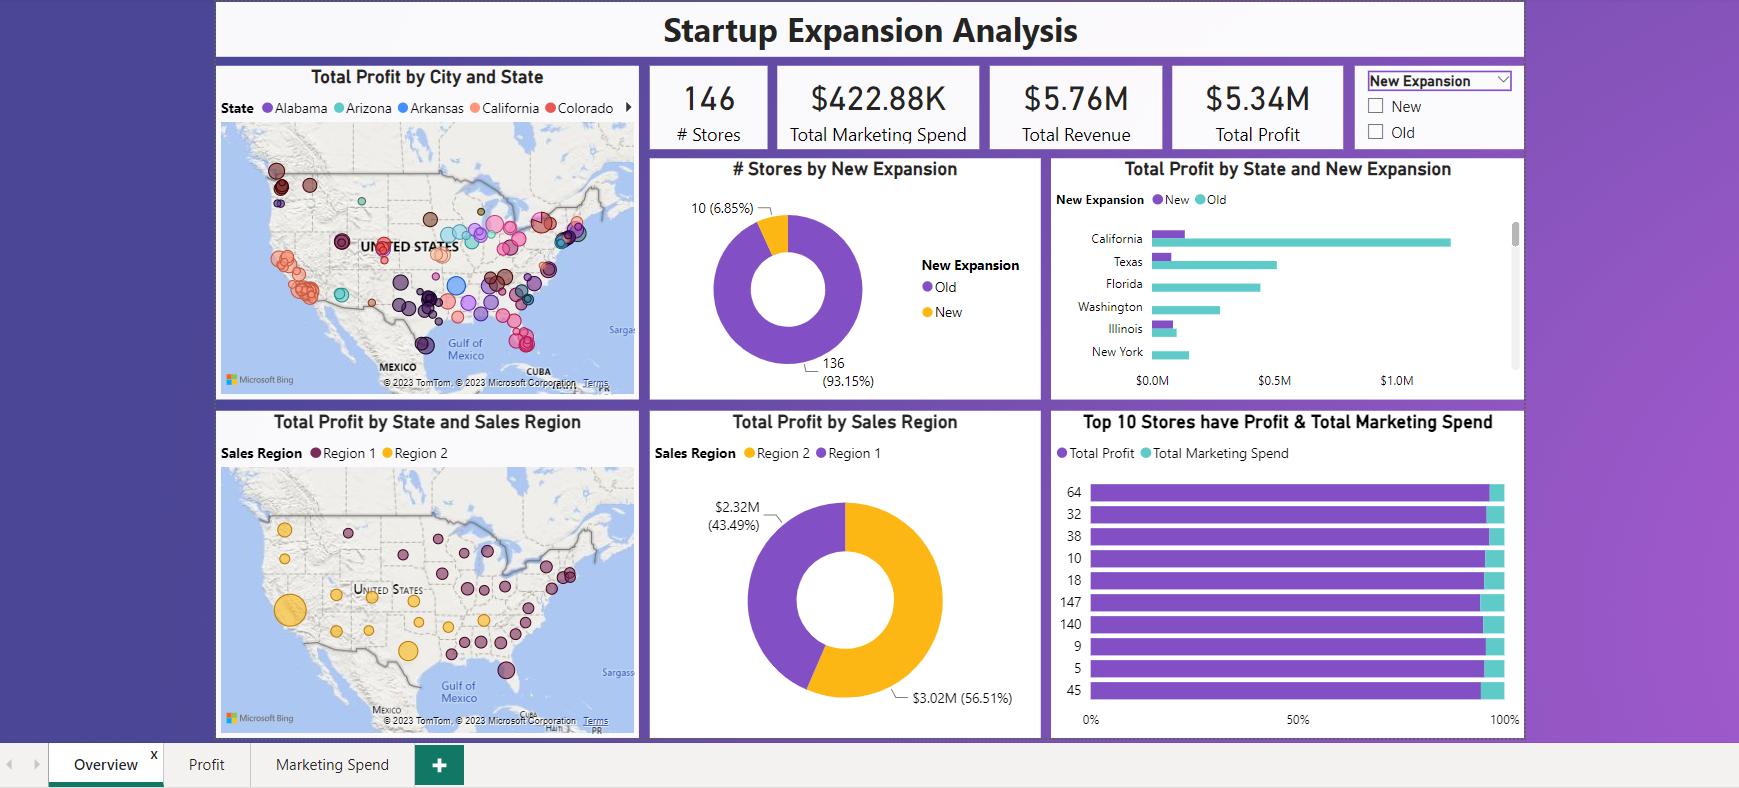

This screenshot's page, from the dashboard's own definition file:
{"tool":"powerbi","page":{"name":"Overview","canvas":[1280,720],"ordinal":0},"visuals":[{"type":"map","title":"Total Profit by City and State","fields":{"Category":["startup-expansion-modified.city"],"Series":["startup-expansion-modified.state"],"Size":["startup-expansion-modified.Total Profit"]},"box":[0,62.5,413.8,326.2],"z":0},{"type":"map","title":"Total Profit by State and Sales Region","fields":{"Category":["startup-expansion-modified.state"],"Series":["startup-expansion-modified.sales_region"],"Size":["startup-expansion-modified.Total Profit"]},"box":[0,400,413.8,320],"z":1000},{"type":"textbox","box":[0,0,1280,53.8],"z":2000},{"type":"card","fields":{"Values":["startup-expansion-modified.# Stores"]},"box":[423.8,62.5,115,81.2],"z":3000},{"type":"card","fields":{"Values":["startup-expansion-modified.Total Revenue"]},"box":[756.2,62.5,168.8,81.2],"z":4000},{"type":"card","fields":{"Values":["startup-expansion-modified.Total Profit"]},"box":[935,62.5,167.5,81.2],"z":5000},{"type":"card","fields":{"Values":["startup-expansion-modified.Total Marketing Spend"]},"box":[548.8,62.5,197.5,81.2],"z":6000},{"type":"donutChart","title":"Total Profit by Sales Region","fields":{"Y":["startup-expansion-modified.Total Profit"],"Category":["startup-expansion-modified.sales_region"]},"box":[423.8,400,382.5,320],"z":7000},{"type":"donutChart","title":"# Stores by New Expansion","fields":{"Category":["startup-expansion-modified.new_expansion"],"Y":["startup-expansion-modified.# Stores"]},"box":[423.8,152.5,382.5,236.2],"z":8000},{"type":"slicer","fields":{"Values":["startup-expansion-modified.new_expansion"]},"box":[1113.8,62.5,166.2,81.2],"z":9000},{"type":"hundredPercentStackedBarChart","title":"Top 10 Stores have Profit & Total Marketing Spend","fields":{"Category":["startup-expansion-modified.store_id"],"Y":["startup-expansion-modified.Total Profit","startup-expansion-modified.Total Marketing Spend"]},"box":[816.2,400,463.8,320],"z":10000},{"type":"clusteredBarChart","title":"Total Profit by State and New Expansion","fields":{"Category":["startup-expansion-modified.state"],"Y":["startup-expansion-modified.Total Profit"],"Series":["startup-expansion-modified.new_expansion"]},"box":[816.2,152.5,463.8,236.2],"z":11000}]}

Visuals, with their boxes on the page's 1280x720 design canvas (x1, y1, x2, y2). These are canvas units, not pixel positions in the 1739x788 screenshot, which may show the page scaled, cropped or inside an application window:
"Total Profit by City and State" map: detection(0, 62, 414, 389)
"Total Profit by State and Sales Region" map: detection(0, 400, 414, 720)
textbox: detection(0, 0, 1280, 54)
card - startup-expansion-modified.# Stores: detection(424, 62, 539, 144)
card - startup-expansion-modified.Total Revenue: detection(756, 62, 925, 144)
card - startup-expansion-modified.Total Profit: detection(935, 62, 1102, 144)
card - startup-expansion-modified.Total Marketing Spend: detection(549, 62, 746, 144)
"Total Profit by Sales Region" donutChart: detection(424, 400, 806, 720)
"# Stores by New Expansion" donutChart: detection(424, 152, 806, 389)
slicer - startup-expansion-modified.new_expansion: detection(1114, 62, 1280, 144)
"Top 10 Stores have Profit & Total Marketing Spend" hundredPercentStackedBarChart: detection(816, 400, 1280, 720)
"Total Profit by State and New Expansion" clusteredBarChart: detection(816, 152, 1280, 389)
